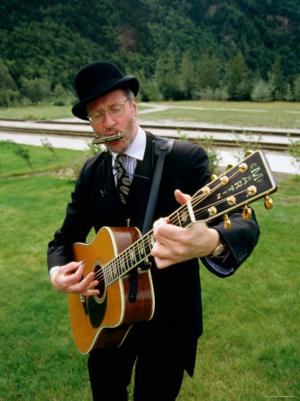person: (47, 61, 260, 400)
